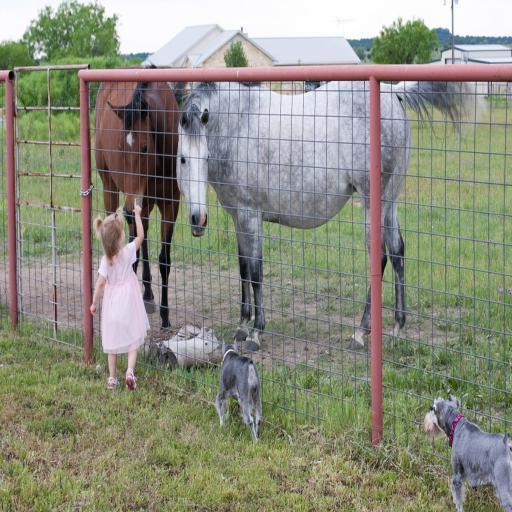horse: (175, 78, 476, 354), (92, 63, 183, 334)
